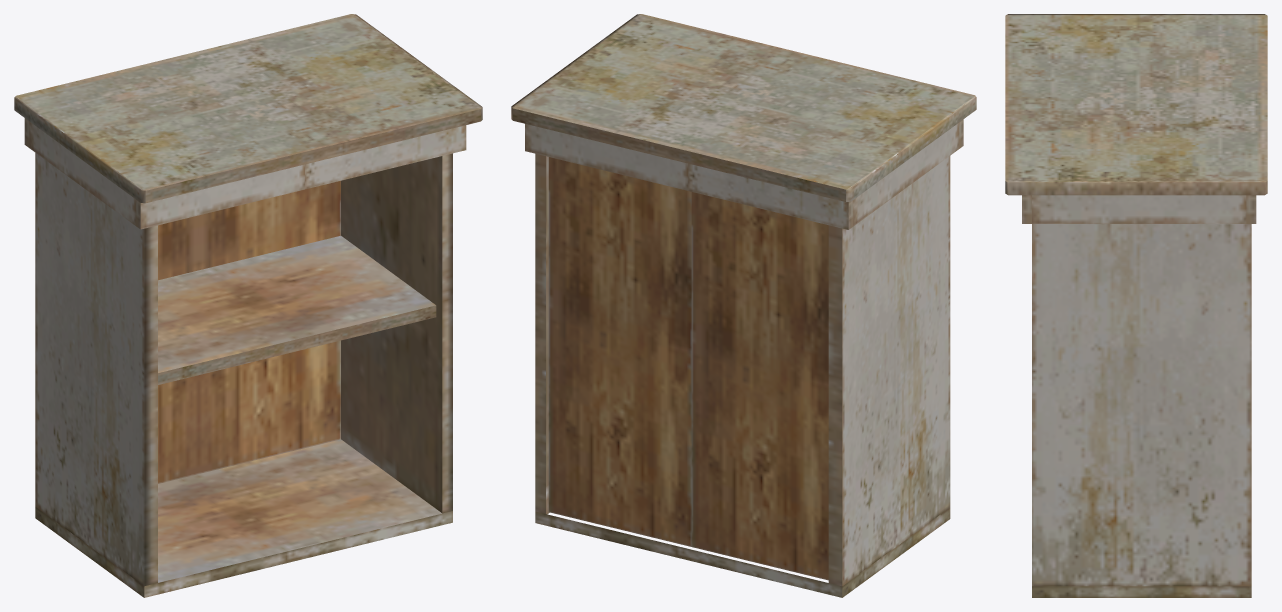
Rendered from 105_KitchenStorage.fbx.
The picture shows the model from 3 angles, left to right: view 1: azimuth 30°, elevation 25°; view 2: azimuth 150°, elevation 25°; view 3: azimuth 270°, elevation 25°; orthographic projection.
Parts seen in each view (by area): view 1: LOD_1_Group_0_Sub_1__sm30_105_KitchenStorage01B_A_Mat; view 2: LOD_1_Group_0_Sub_1__sm30_105_KitchenStorage01B_A_Mat; view 3: LOD_1_Group_0_Sub_1__sm30_105_KitchenStorage01B_A_Mat.
Part boxes in pixels (x1=…): LOD_1_Group_0_Sub_1__sm30_105_KitchenStorage01B_A_Mat: x1=14, y1=14, x2=482, y2=597; LOD_1_Group_0_Sub_1__sm30_105_KitchenStorage01B_A_Mat: x1=511, y1=14, x2=976, y2=597; LOD_1_Group_0_Sub_1__sm30_105_KitchenStorage01B_A_Mat: x1=1005, y1=14, x2=1267, y2=597.
Bounding box in the file's own units: 0.9045 × 1.06 × 0.595.
